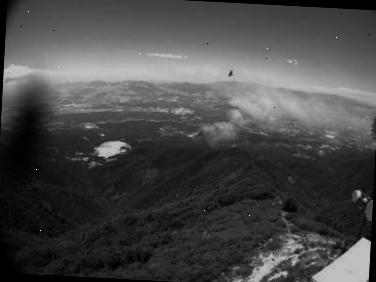smoke: (186, 81, 352, 156)
